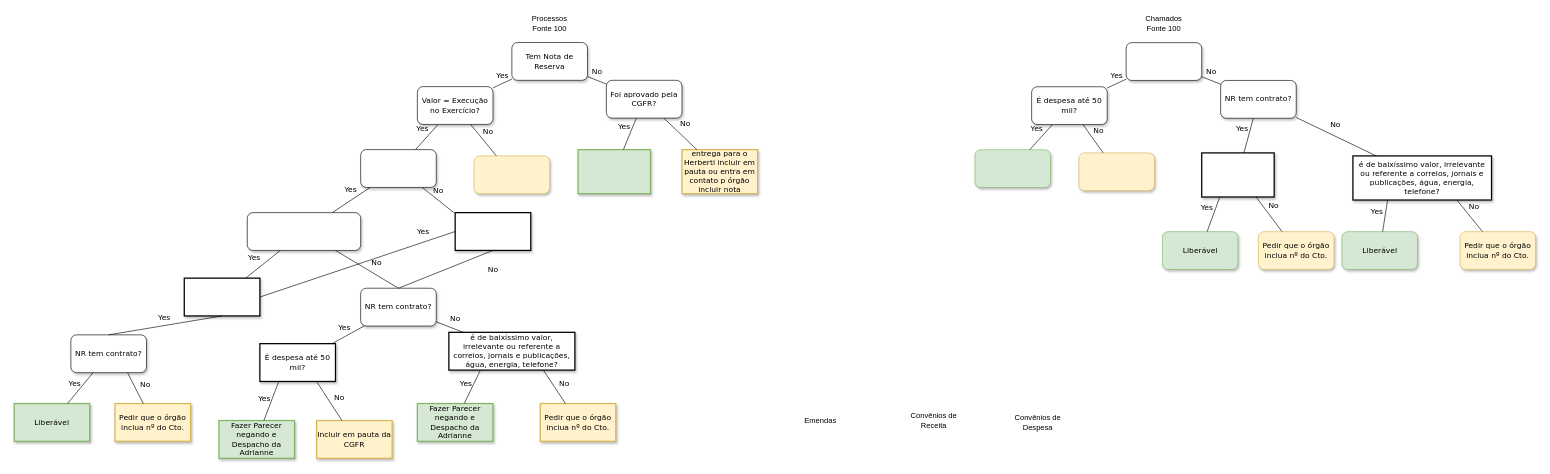
The diagram is 1550 pixels wide and 474 high, and some of its shapes have lost their labels. The centre of each missing label's shape, as x and y in pixels:
DEA?: the point at 1164,62
Entregar para o Herberti incluir despacho referente à pauta: the point at 615,172
Existiu autorização em parecer ou CGFR?: the point at 1238,175
Liberável com autorização de Diretoria and above: the point at 1013,169
Obedece à redução?: the point at 222,298
Pautar na CGFR: the point at 1117,172
Pedir que órgão corrija: the point at 512,175
Refere-se a terceirizados ou locação de veículos?: the point at 304,232
Substitui outro contrato de mesmo valor?: the point at 493,232
É aditivo?: the point at 399,169
